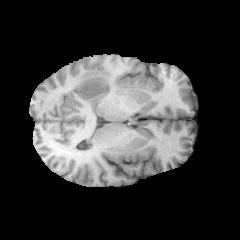glioma: (68, 60, 113, 102)
